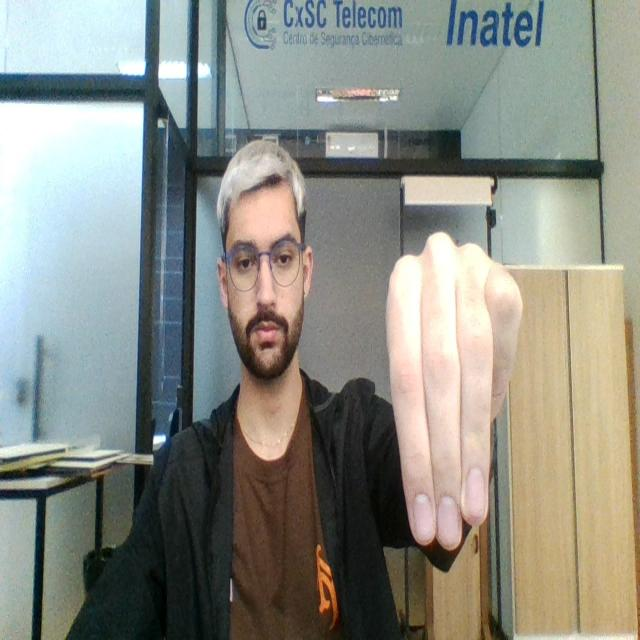M: (382, 218, 516, 556)
